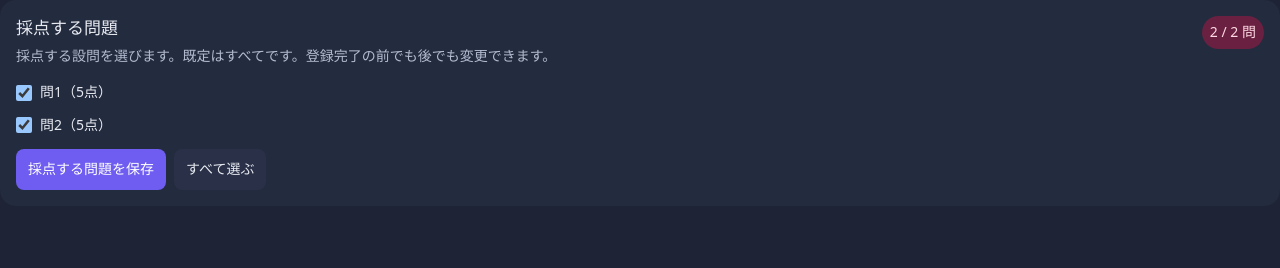
ScoringTargetsCard (Issue #449) › 前提を採点対象外にすると、依存先の設問名を知らせる
The image size is (1280, 268).
Click the checkbox with test id "scoring-target-問1" at (24, 92), box [16,84,32,100]
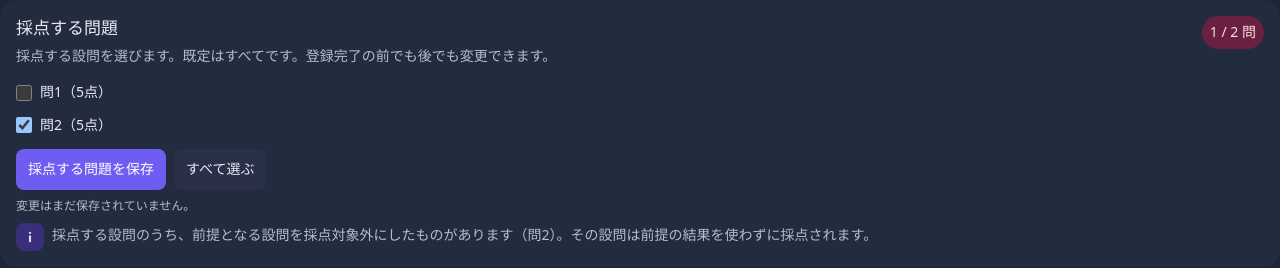
Now the text with test id "disabled-reason-scoring-target-prerequisite-excluded" shows "問2", box [52,225,877,244]
